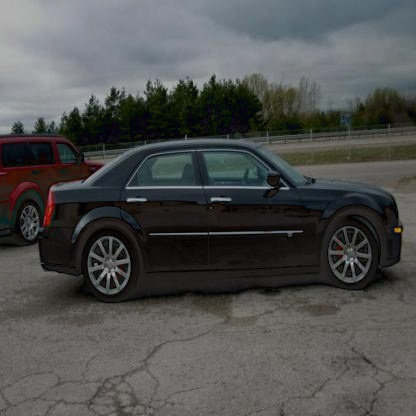Vehicle: (36, 139, 405, 306)
